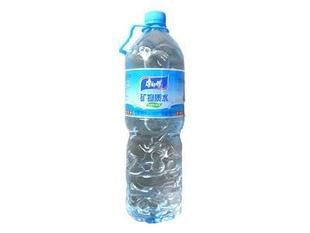amwater: (108, 8, 190, 227)
